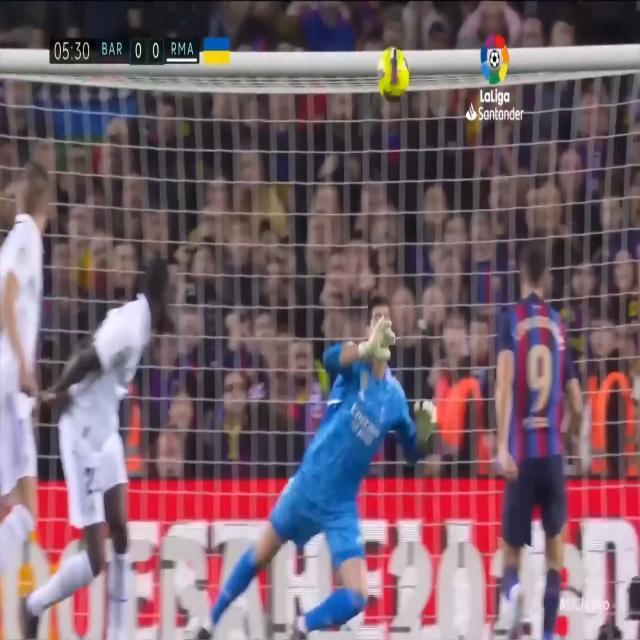ball: (364, 30, 416, 131)
goalkeeper: (215, 264, 467, 640)
player: (48, 227, 193, 640), (478, 223, 598, 634), (0, 134, 68, 636)
